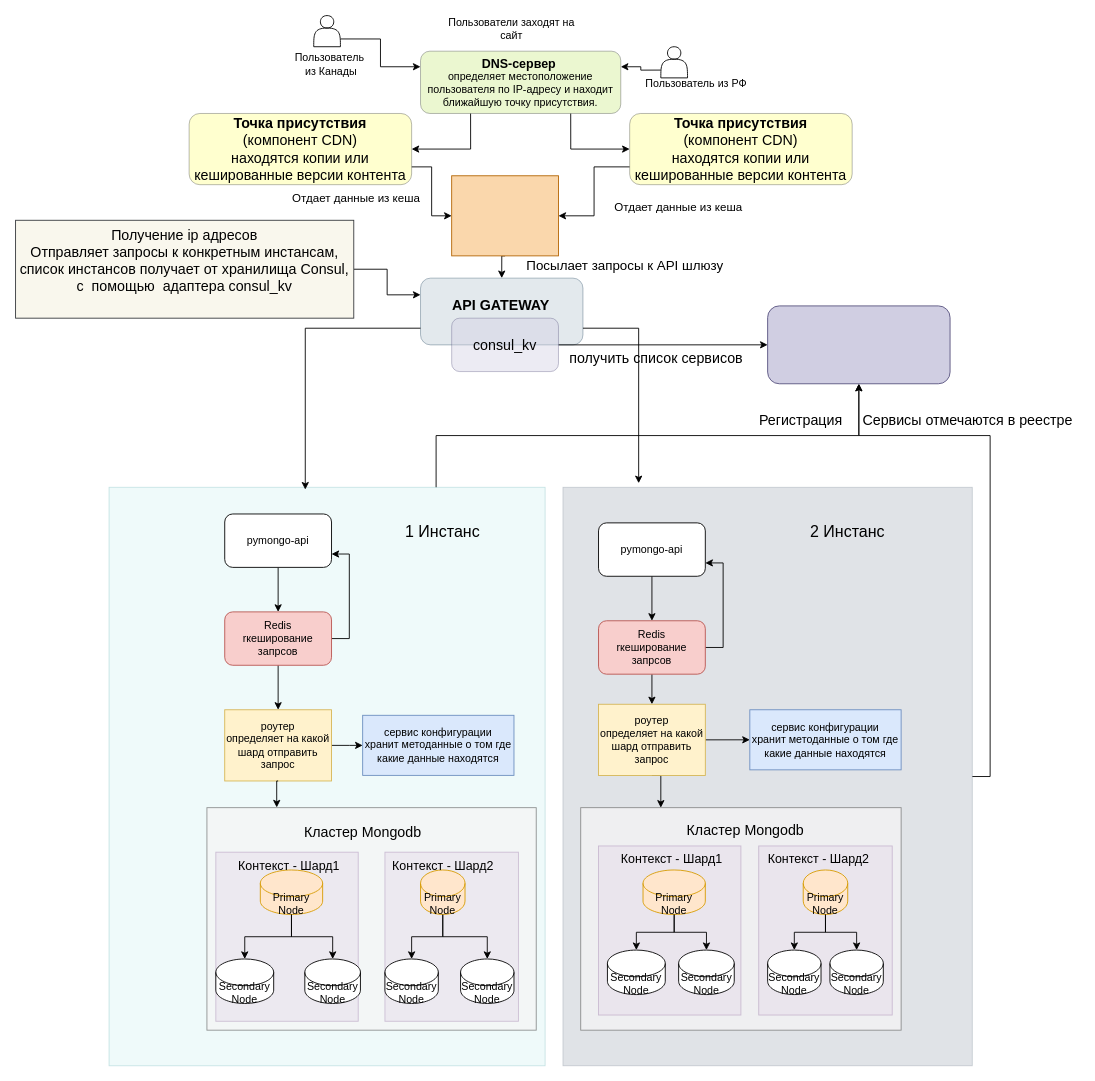
The diagram is 1095 pixels wide and 1081 high, and some of its shapes have lost their labels. The box of each missing label's shape, as (x1, y1, x2, y2) in pixels:
Consul: (767, 305, 950, 384)
Сайт: (451, 175, 558, 256)
